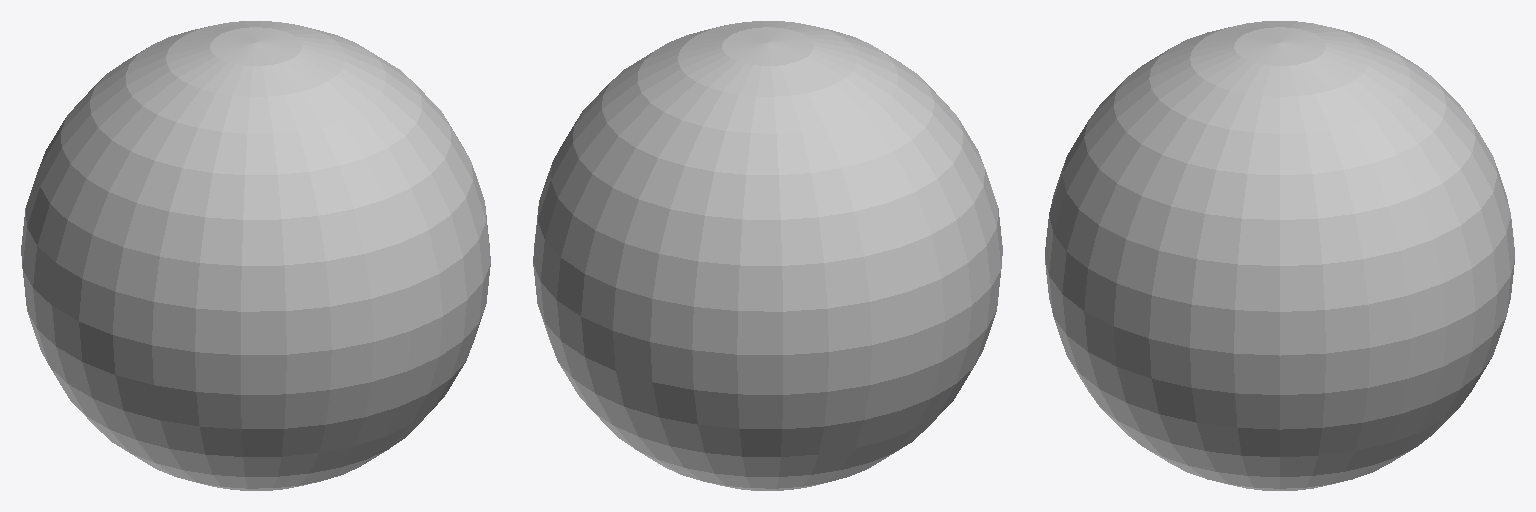
The model's file is ballobj.obj.
3 views of the same model, side by side, from view 1: azimuth 30°, elevation 25°; view 2: azimuth 150°, elevation 25°; view 3: azimuth 270°, elevation 25° (orthographic).
Parts seen in each view (by area): view 1: Sphere; view 2: Sphere; view 3: Sphere.
Part boxes in pixels (x1,y1,x2,y2): Sphere: (21, 21, 490, 490); Sphere: (533, 21, 1002, 490); Sphere: (1045, 21, 1514, 490).
Bounding box in the file's own units: 2 × 2 × 2.